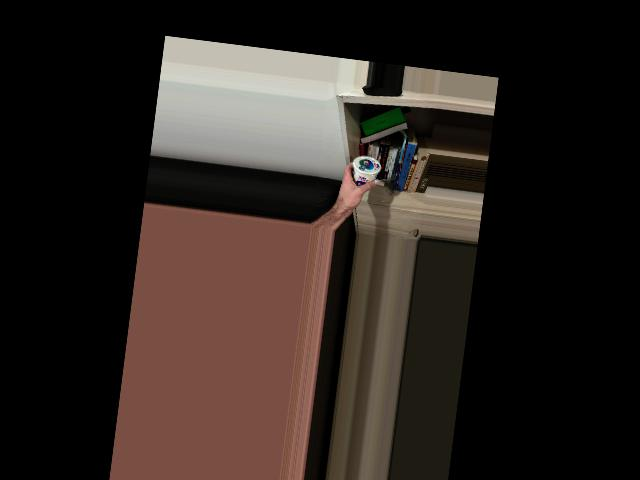cotage: (346, 152, 382, 192)
